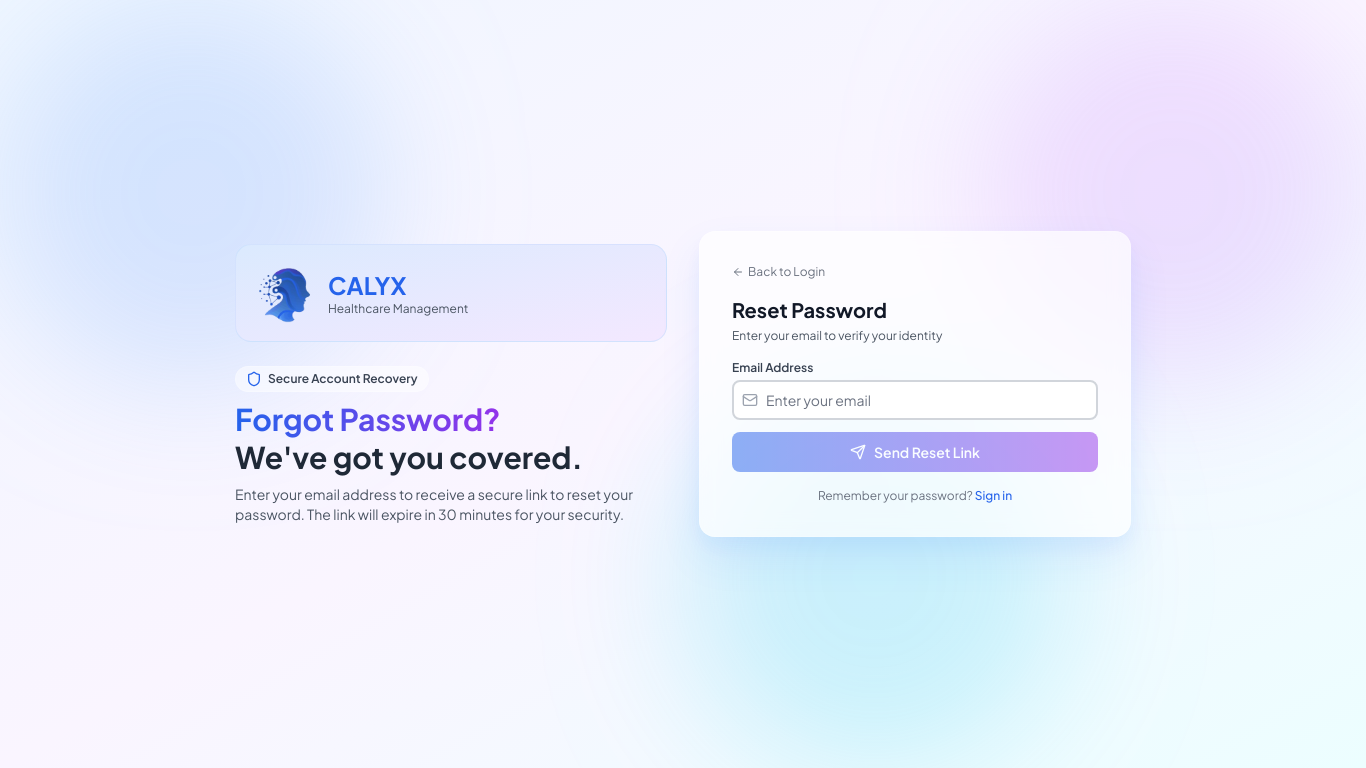
Test case: ForgotPassword Page › shows validation error for invalid email
The width and height of the screenshot is (1366, 768).
Type "invalidemail" into the field with placeholder "Enter your email". click: (915, 400)
box: [732,380,1098,420]
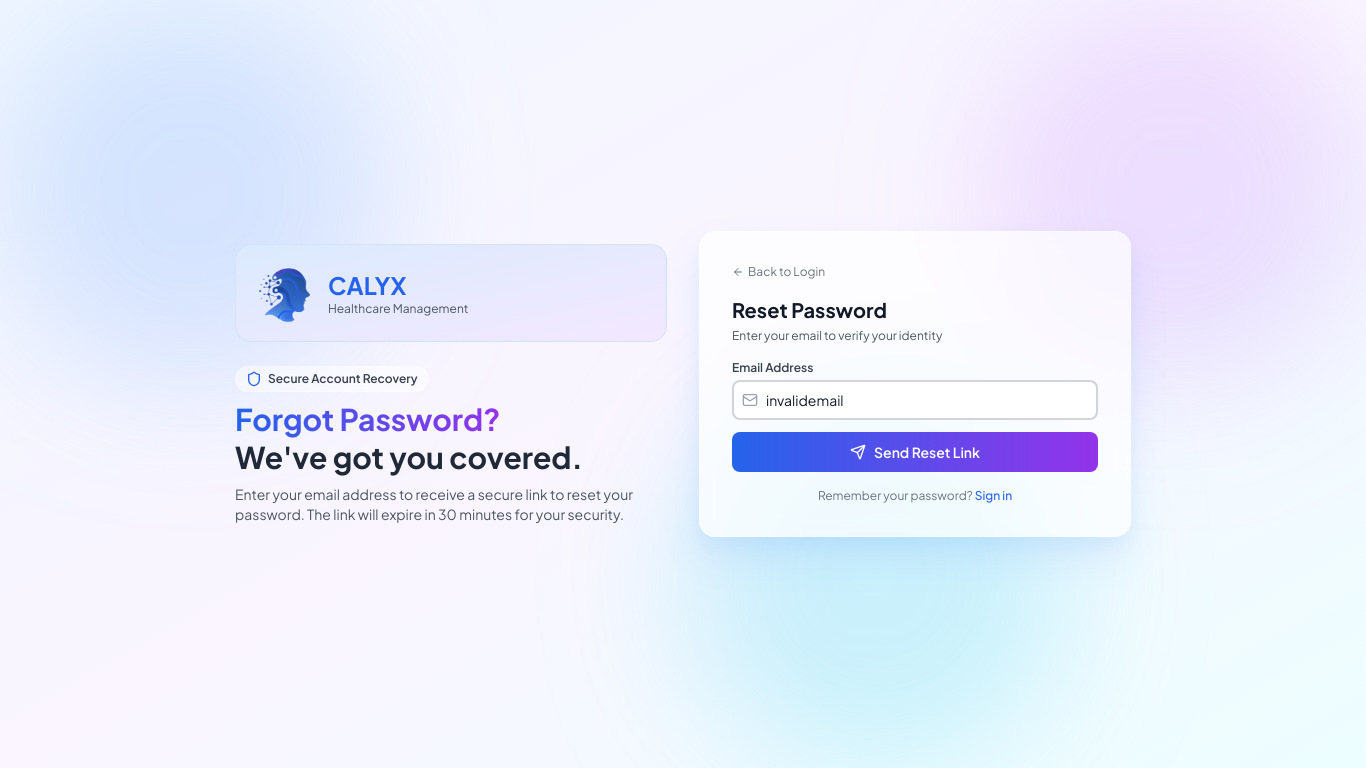
Leave the field with placeholder "Enter your email", box [732,380,1098,420]
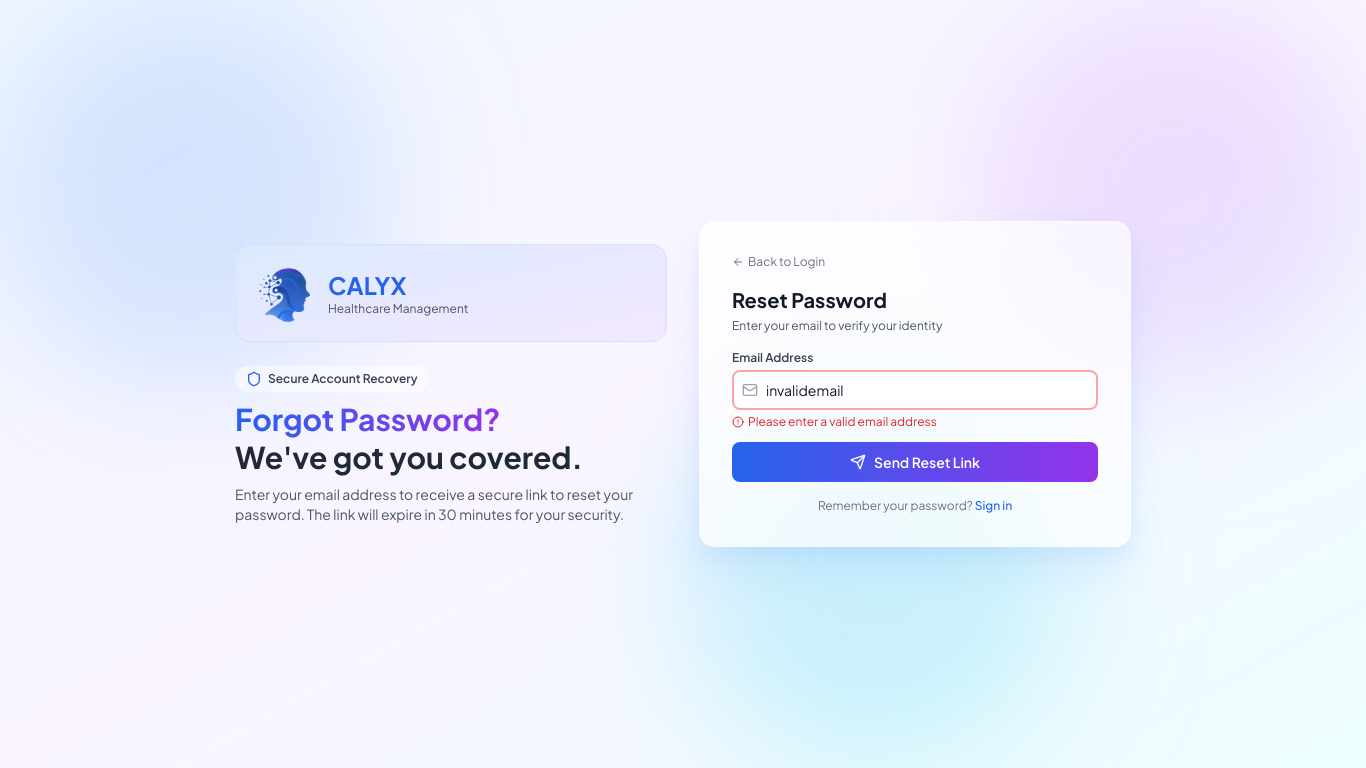
Expected: the text "Please enter a valid email address" is shown, [732,414,937,429]
